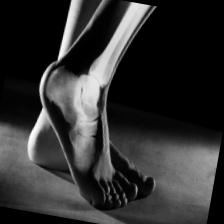hairline-fracture: (16, 0, 186, 224)
